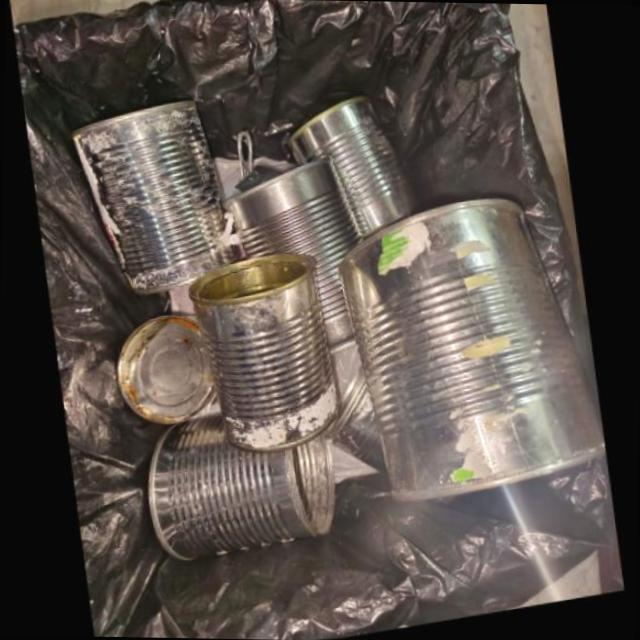nhom: (341, 208, 606, 509), (75, 105, 244, 299), (147, 417, 345, 571), (192, 258, 342, 460), (228, 166, 364, 360), (293, 103, 426, 247), (120, 321, 214, 426), (329, 372, 390, 488)
